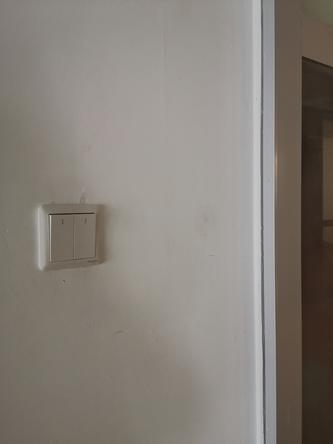switch: (44, 210, 77, 263), (70, 209, 99, 263)
